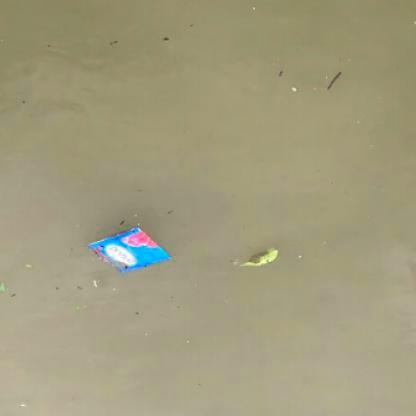Trash: (82, 217, 176, 281)
